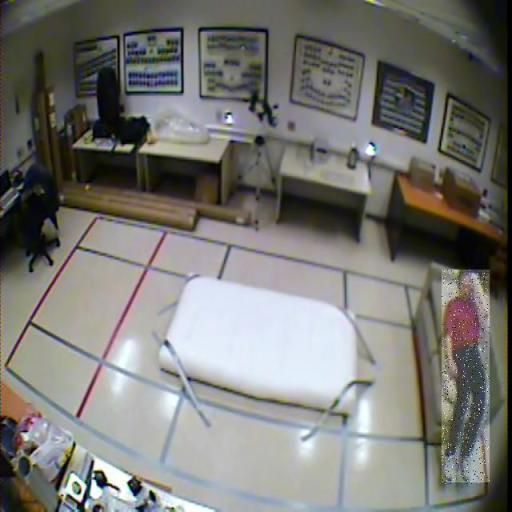Fall: (442, 270, 490, 485)
